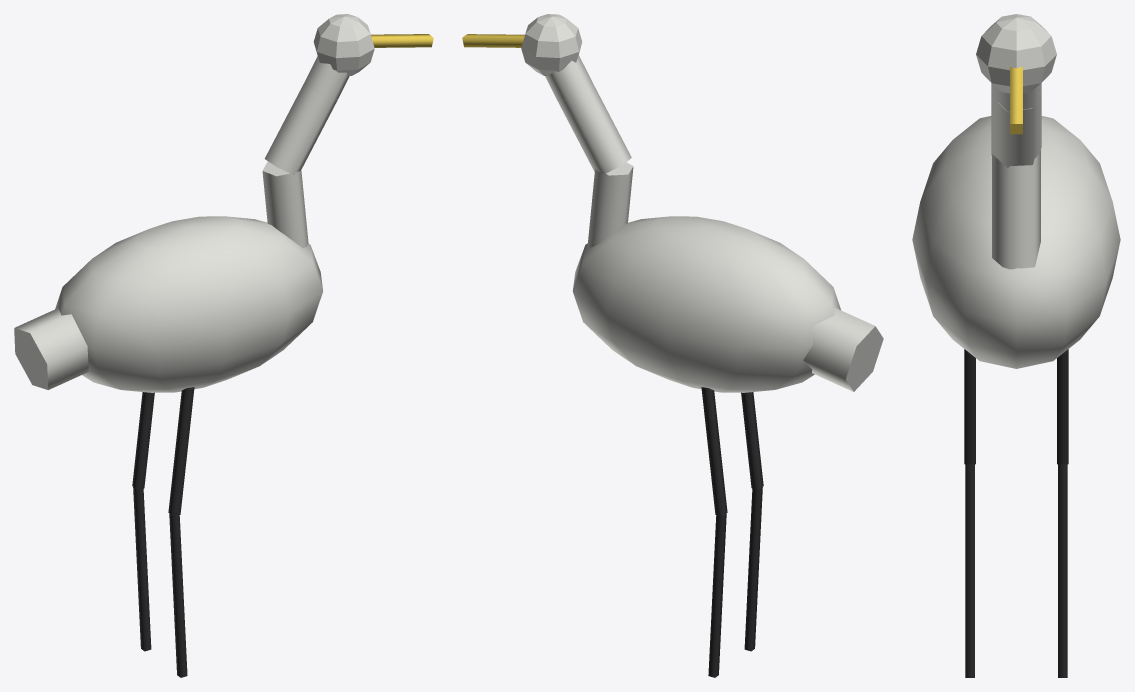
File: egret_stand.glb
3 views of the same model, side by side, from view 1: azimuth 30°, elevation 25°; view 2: azimuth 150°, elevation 25°; view 3: azimuth 270°, elevation 25° (orthographic). The views are drawn at different scales.
Parts seen in each view (by area): view 1: egret_1; view 2: egret_1; view 3: egret_1.
Part boxes in pixels (left/top/right/bottom): egret_1: left=14, top=14, right=433, bottom=677; egret_1: left=462, top=14, right=883, bottom=677; egret_1: left=912, top=14, right=1120, bottom=677.
Bounding box in the file's own units: 0.5188 × 0.7352 × 0.18.
